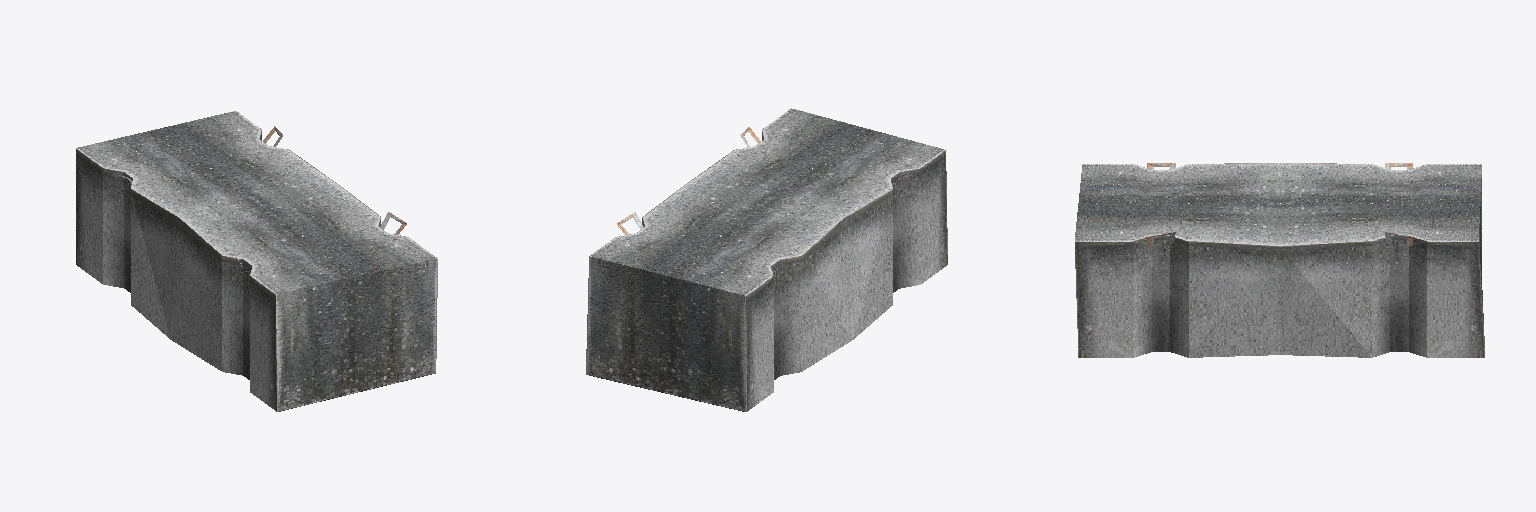
3 renders of one model, left to right at view 1: azimuth 30°, elevation 25°; view 2: azimuth 150°, elevation 25°; view 3: azimuth 270°, elevation 25°, orthographic.
Parts seen in each view (by area): view 1: Block; view 2: Block; view 3: Block.
Boxes of the visible parts, x1,y1,x2,y2 form: Block: [76, 111, 437, 411]; Block: [586, 108, 947, 411]; Block: [1075, 163, 1484, 357].
Bounding box in the file's own units: 2.14 × 1.52 × 4.48.
Materials: 1 (1 with a texture image).